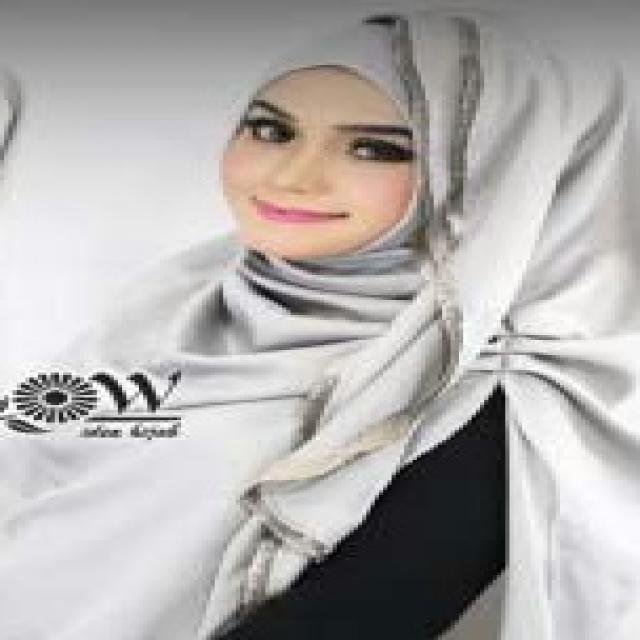head: (215, 5, 615, 260)
